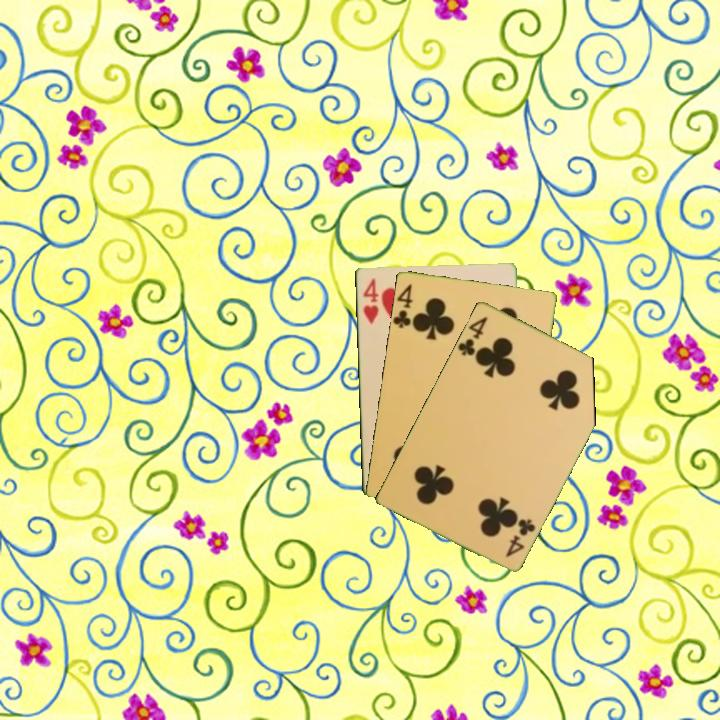4c: (454, 312, 490, 359), (502, 515, 538, 560), (391, 280, 415, 331)
4h: (359, 274, 381, 327)
